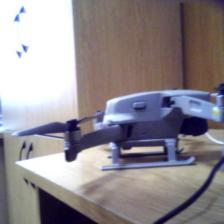drone: (25, 84, 224, 181)
